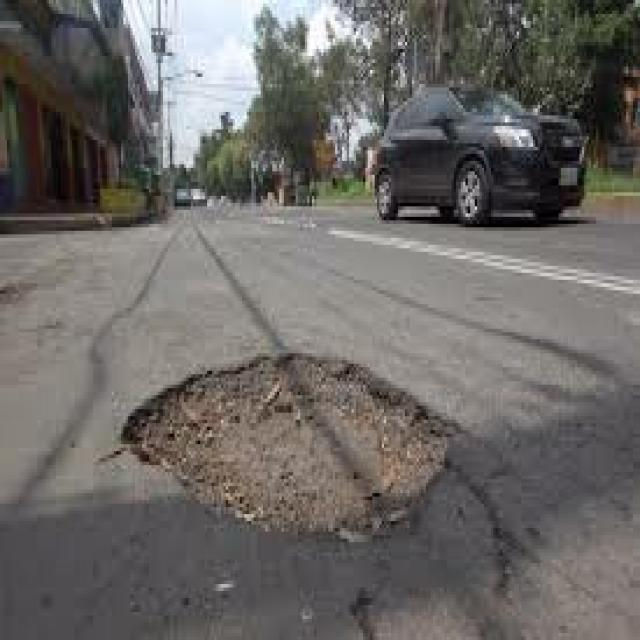Pothole: (122, 352, 449, 541)
